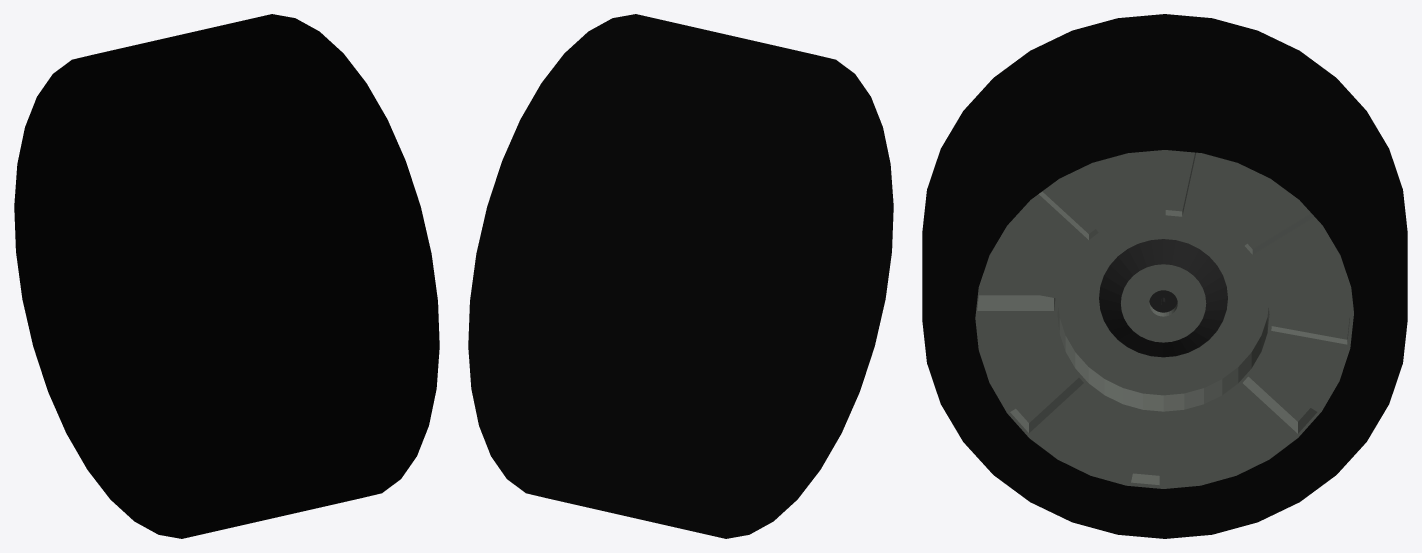
File: wheel.glb
The picture shows the model from 3 angles, left to right: view 1: azimuth 30°, elevation 25°; view 2: azimuth 150°, elevation 25°; view 3: azimuth 270°, elevation 25°; orthographic projection.
Visible parts, largest first — view 1: Cylinder_2; view 2: Cylinder_2; view 3: Cylinder_2, Cylinder.001_3.
Boxes of the visible parts, box(x1,y1,x2,y2) form: Cylinder_2: box(14, 14, 439, 538); Cylinder_2: box(468, 14, 893, 538); Cylinder_2: box(922, 14, 1407, 538); Cylinder.001_3: box(975, 150, 1353, 488).
Bounding box in the file's own units: 2.55 × 5.94 × 5.9.
Materials: 3 (1 with a texture image).
